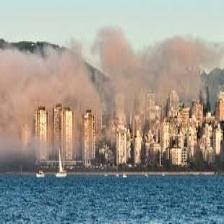smoke: (1, 35, 215, 138)
